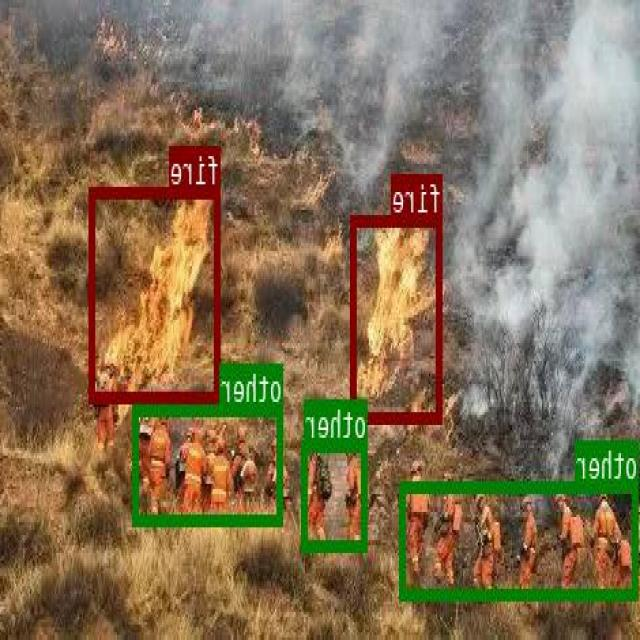fire: (90, 186, 220, 400), (352, 215, 444, 420)
other: (402, 481, 640, 596), (133, 404, 284, 524), (302, 440, 368, 549)
